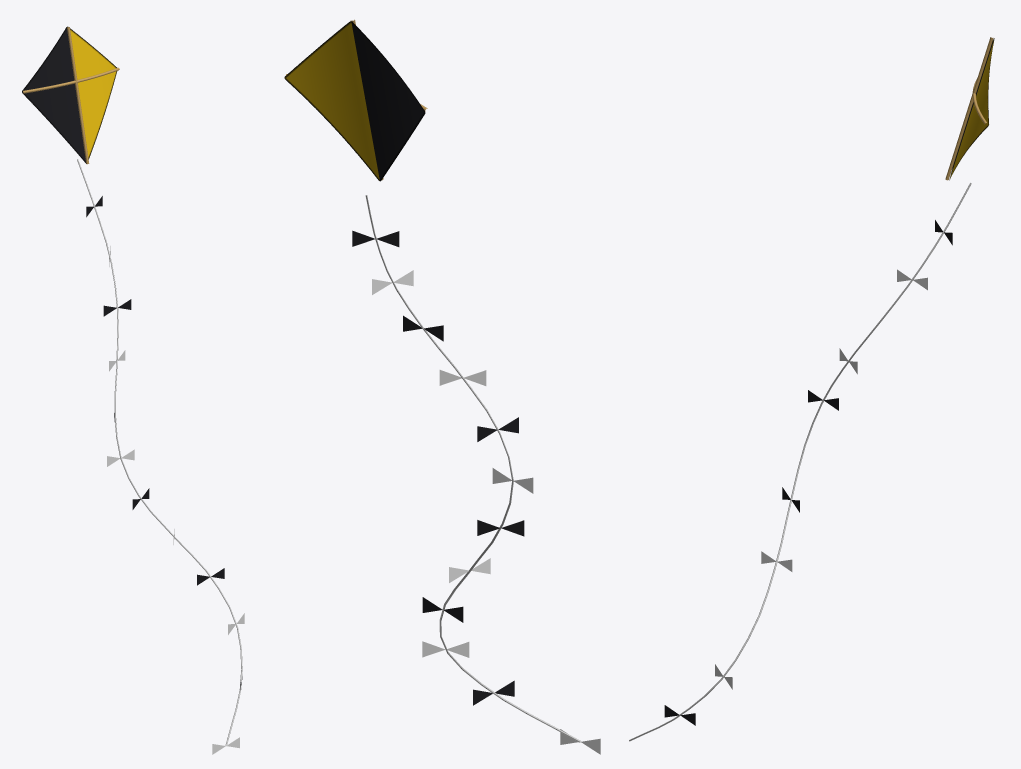
File: pipa-5.glb
3 renders of one model, left to right at view 1: azimuth 30°, elevation 25°; view 2: azimuth 150°, elevation 25°; view 3: azimuth 270°, elevation 25°, orthographic. The views are drawn at different scales.
Parts seen in each view (by area): view 1: pipa-5; view 2: pipa-5; view 3: pipa-5.
Boxes of the visible parts, x1=… form: pipa-5: x1=22, y1=26, x2=244, y2=754; pipa-5: x1=284, y1=19, x2=600, y2=754; pipa-5: x1=629, y1=37, x2=994, y2=741.
Size of the model in its own units: 1.06 by 5.5 by 2.66.
Materials: 5 (1 with a texture image).
